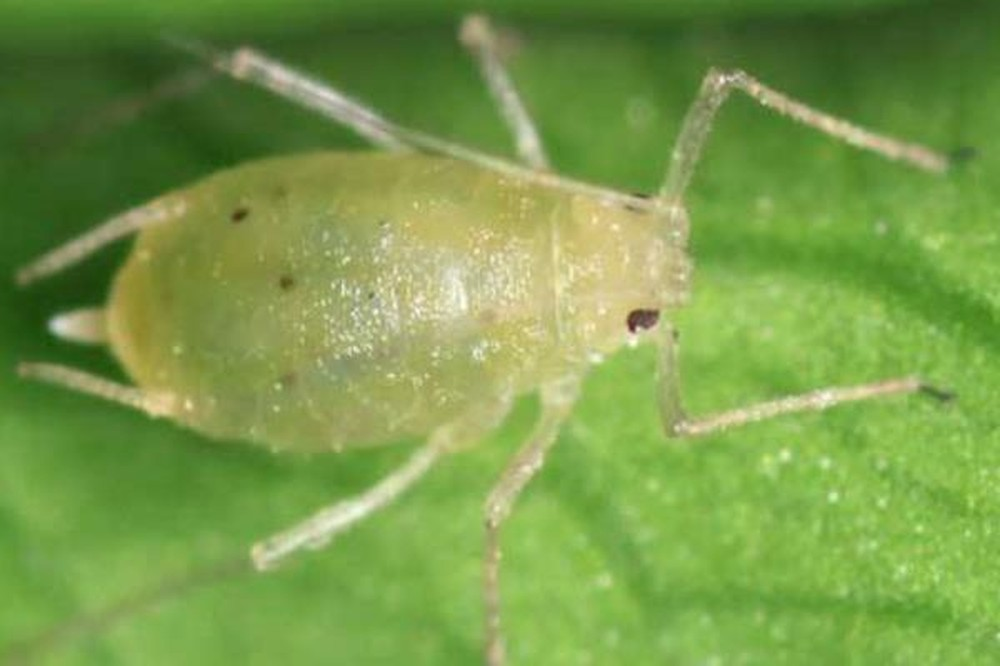Pulgon: (25, 41, 967, 628)
